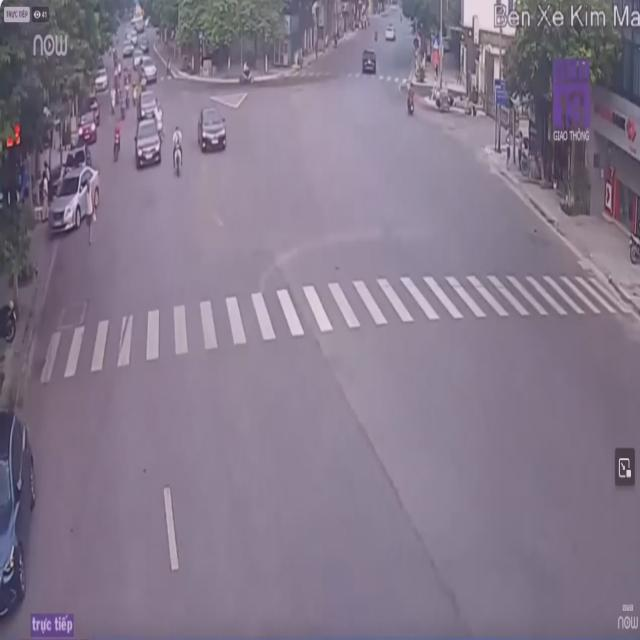car: (0, 416, 36, 627), (134, 103, 166, 172), (50, 170, 83, 231), (196, 105, 228, 156)
motorbike: (172, 126, 185, 179), (114, 124, 125, 162)
